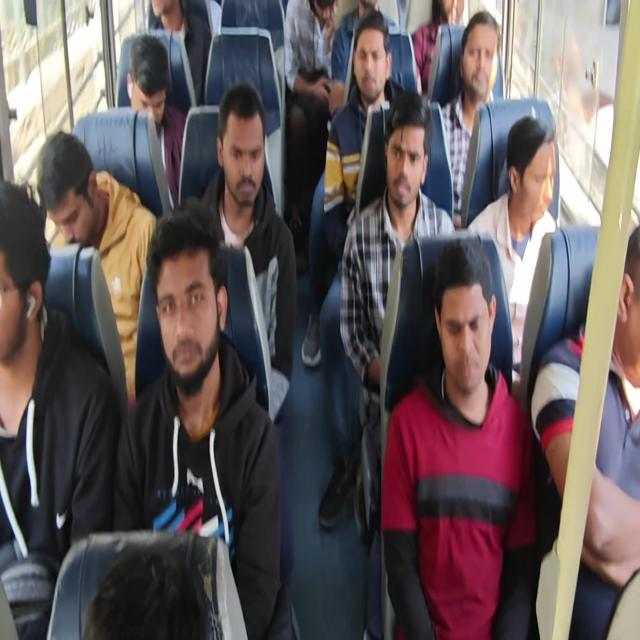person: (1, 1, 638, 638), (112, 199, 292, 638), (380, 236, 538, 638), (0, 178, 119, 638), (339, 88, 456, 528), (530, 223, 640, 592), (301, 10, 405, 368), (199, 82, 297, 422), (37, 129, 157, 406), (467, 114, 558, 387), (284, 0, 342, 233), (438, 10, 499, 226), (82, 548, 220, 638), (124, 33, 187, 208), (147, 0, 211, 105), (331, 0, 400, 84), (412, 0, 464, 95)
